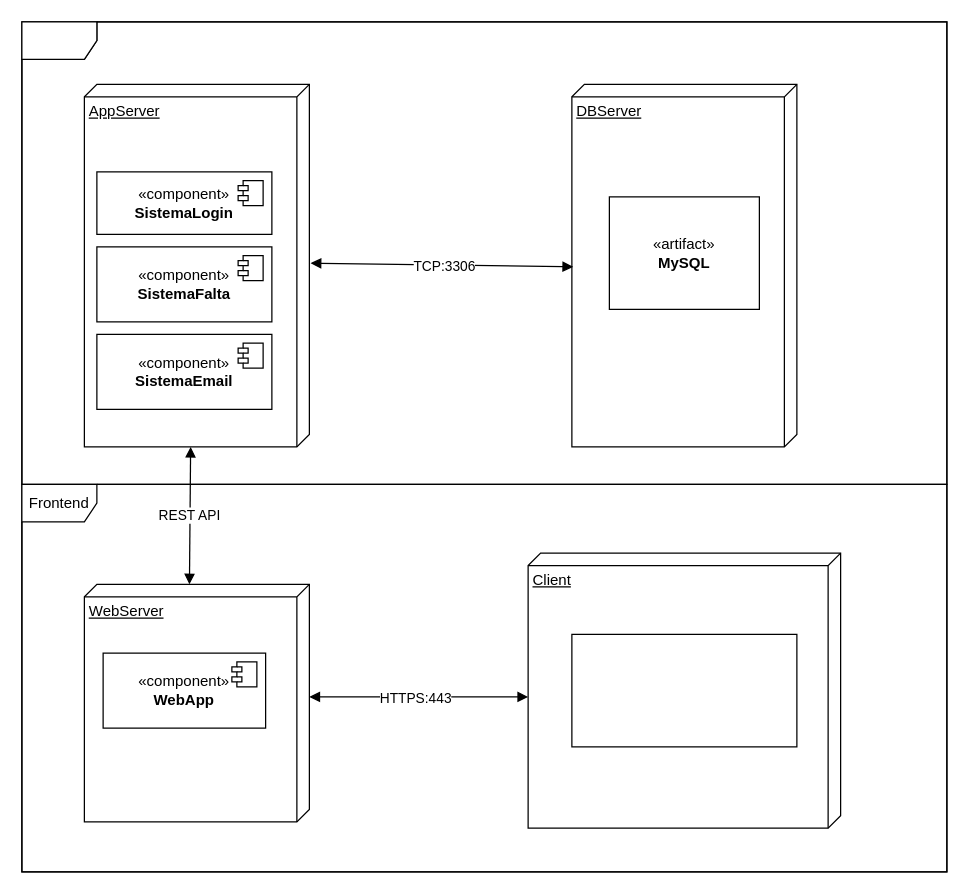
Some shapes in this 969 by 894 pixel diagram are drawn without their labels. The centre of each missing label's shape, as x and y in pixels:
Backend: point 484,252
«Artifact» Website: point 684,690
